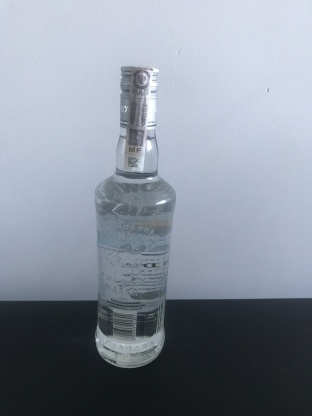nakretka: (116, 60, 161, 131)
